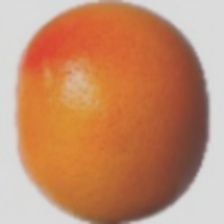grapes: (31, 4, 209, 194)
